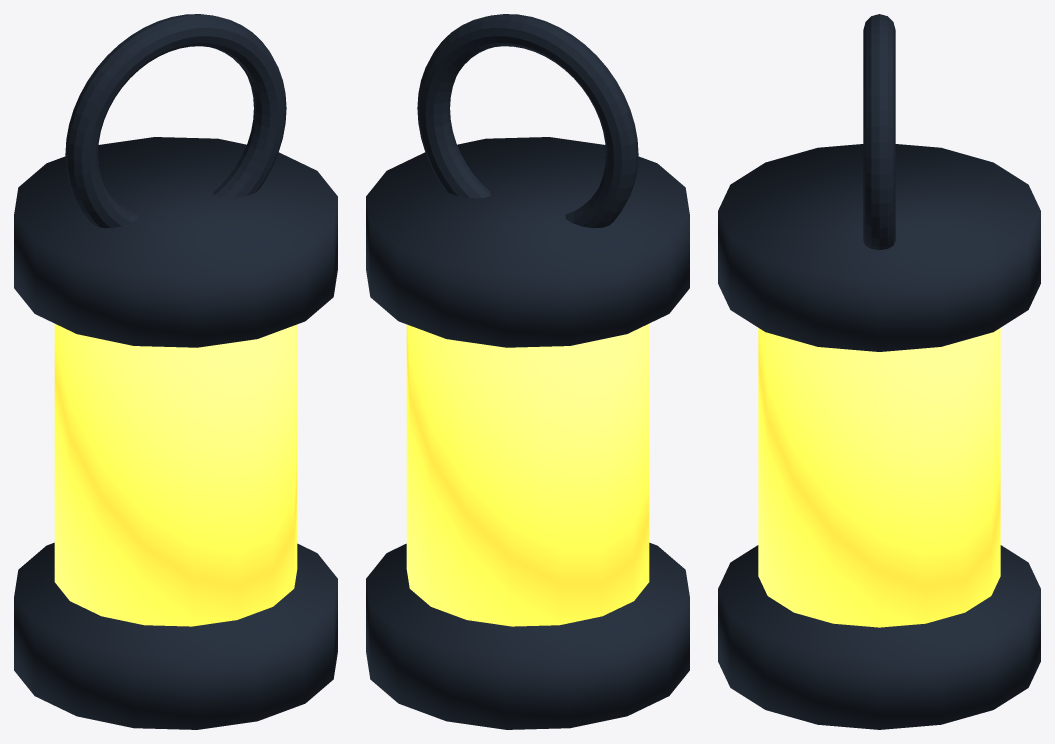
File: lantern.glb
3 views of the same model, side by side, from view 1: azimuth 30°, elevation 25°; view 2: azimuth 150°, elevation 25°; view 3: azimuth 270°, elevation 25° (orthographic).
Parts seen in each view (by area): view 1: Light, Top, Base, Ring; view 2: Light, Top, Base, Ring; view 3: Light, Top, Base, Ring.
Part boxes in pixels (bbox=[...]): Light: bbox=[54, 324, 297, 626]; Top: bbox=[14, 137, 337, 347]; Base: bbox=[14, 542, 337, 729]; Ring: bbox=[65, 14, 286, 228]; Light: bbox=[406, 324, 649, 626]; Top: bbox=[366, 137, 689, 347]; Base: bbox=[366, 542, 689, 729]; Ring: bbox=[417, 14, 638, 228]; Light: bbox=[758, 328, 1000, 627]; Top: bbox=[718, 144, 1040, 351]; Base: bbox=[718, 545, 1040, 729]; Ring: bbox=[863, 14, 895, 250].
Size of the model in its own units: 0.12 by 0.261 by 0.12.
